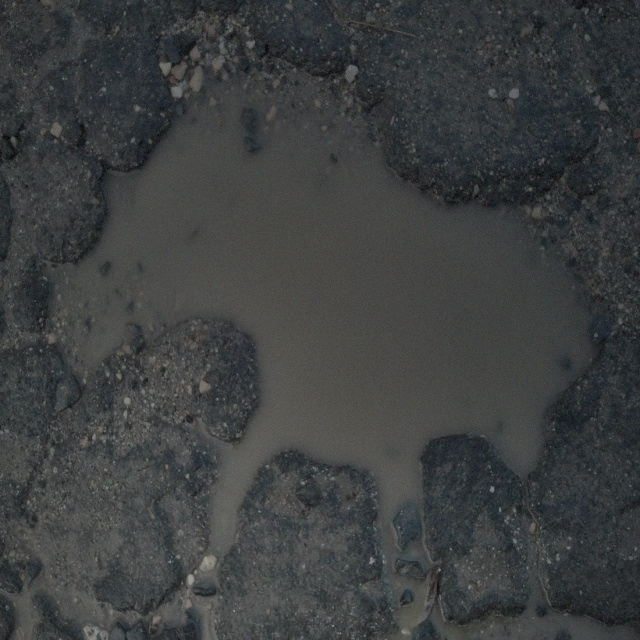pothole: (30, 32, 599, 541)
